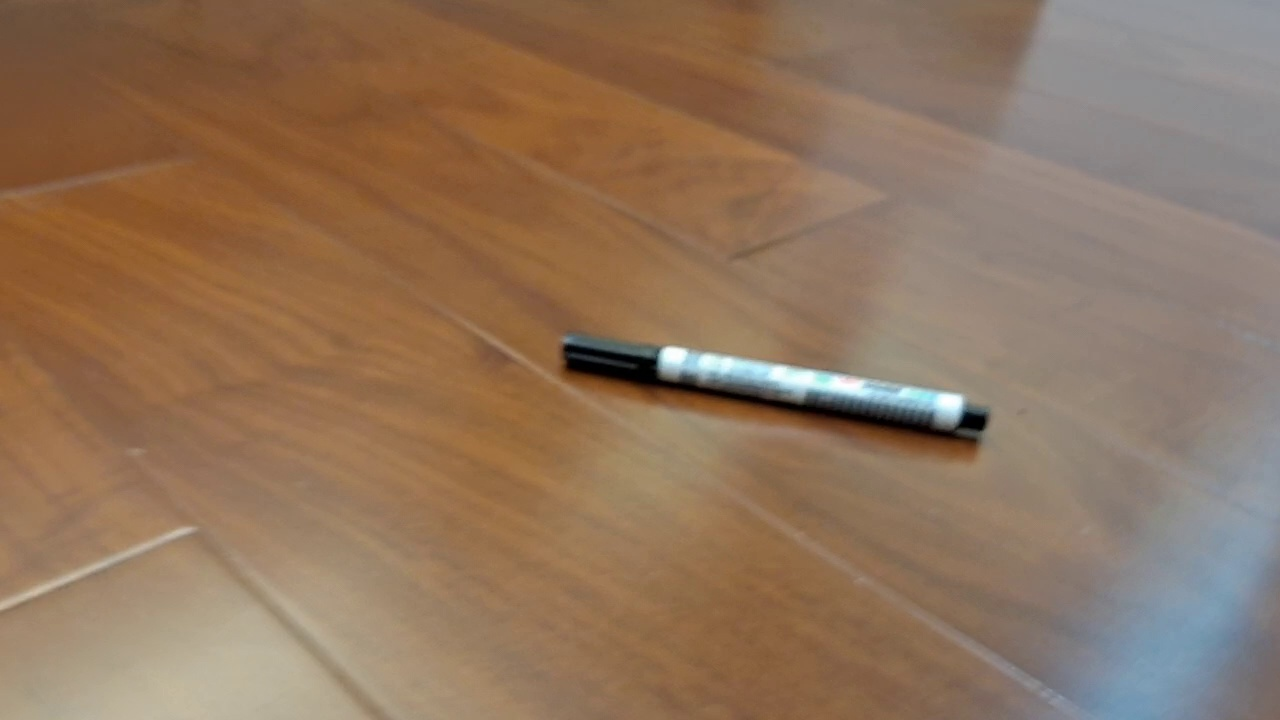pen: (560, 331, 990, 436)
